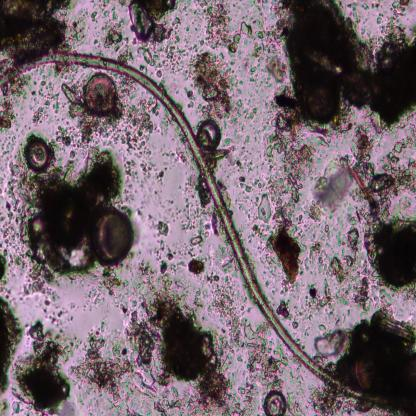Background material: (264, 1, 416, 139), (123, 284, 244, 416), (18, 150, 125, 278), (346, 138, 416, 301), (314, 306, 416, 415), (73, 327, 149, 415), (11, 318, 76, 414), (204, 272, 264, 371), (242, 328, 310, 414), (312, 134, 369, 216), (258, 192, 307, 287), (188, 52, 244, 124), (190, 0, 264, 54), (0, 0, 68, 58), (330, 228, 371, 309), (263, 138, 314, 197), (127, 1, 182, 47), (4, 162, 27, 267), (228, 152, 262, 222), (0, 296, 23, 396), (121, 96, 159, 154), (387, 133, 416, 200), (180, 176, 214, 230), (18, 264, 60, 306), (84, 267, 122, 309), (310, 206, 332, 278), (32, 76, 62, 127), (124, 153, 166, 188), (137, 50, 189, 78), (78, 115, 124, 146), (0, 80, 26, 134), (310, 386, 358, 415), (247, 54, 284, 90), (137, 251, 176, 284), (304, 282, 338, 319), (349, 1, 384, 31), (60, 80, 86, 120), (102, 11, 128, 49), (42, 300, 71, 330), (55, 125, 78, 159), (67, 13, 87, 47), (279, 300, 300, 330), (115, 78, 138, 103), (0, 249, 12, 291), (184, 256, 204, 280), (171, 144, 190, 168), (245, 99, 260, 126), (163, 194, 179, 219), (186, 231, 207, 249), (154, 216, 171, 237), (134, 204, 151, 224), (118, 51, 134, 66), (90, 40, 107, 54), (88, 8, 102, 24), (182, 23, 191, 45), (68, 298, 78, 313)
Diatom: (91, 209, 134, 266), (84, 73, 118, 115), (24, 136, 51, 169), (197, 120, 222, 150), (262, 388, 287, 415)
Microfibre: (0, 52, 387, 407)
